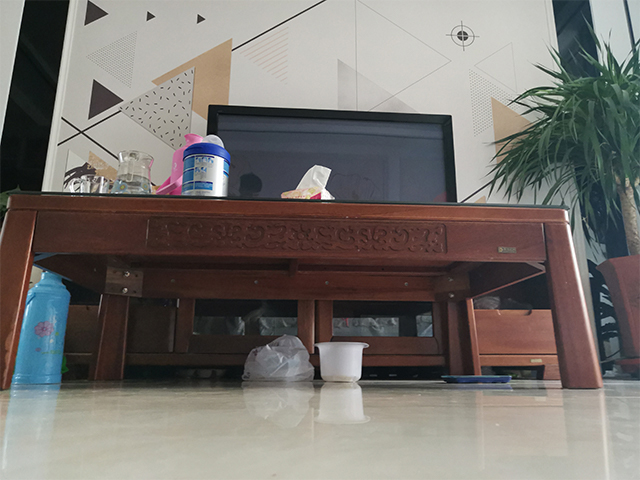table: (1, 190, 605, 391)
